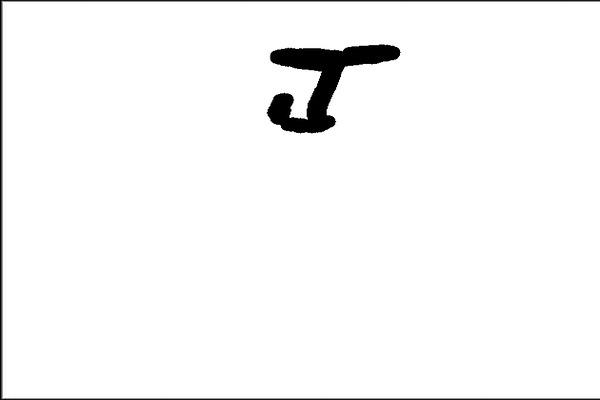J: (259, 37, 406, 138)
